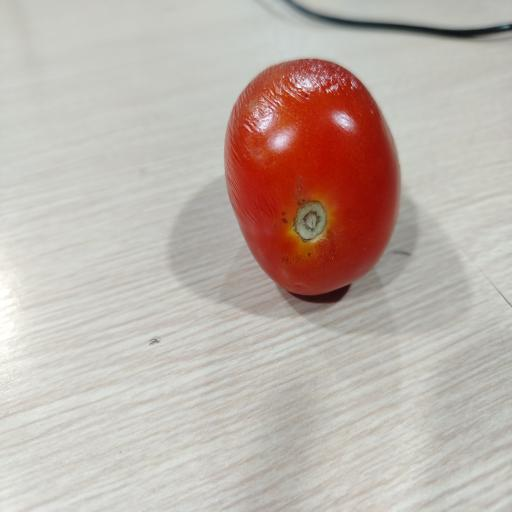spoiled: (225, 59, 400, 295)
